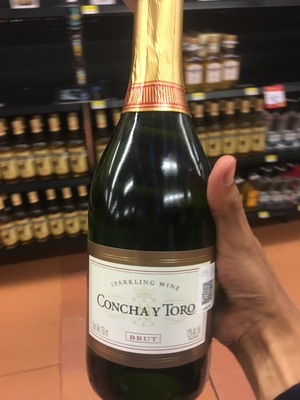brut: (85, 6, 230, 400)
